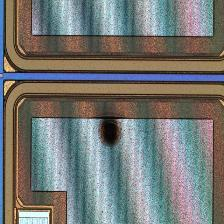PARTICLE: (89, 110, 133, 154)
